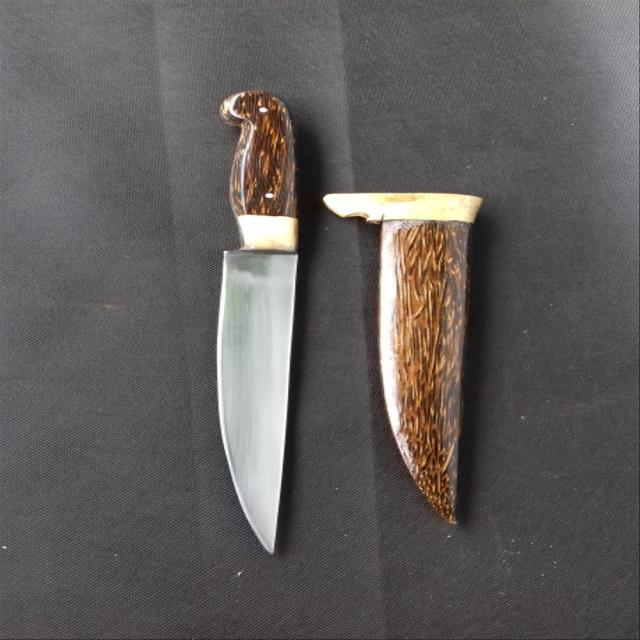Pisau: (197, 73, 306, 565)
